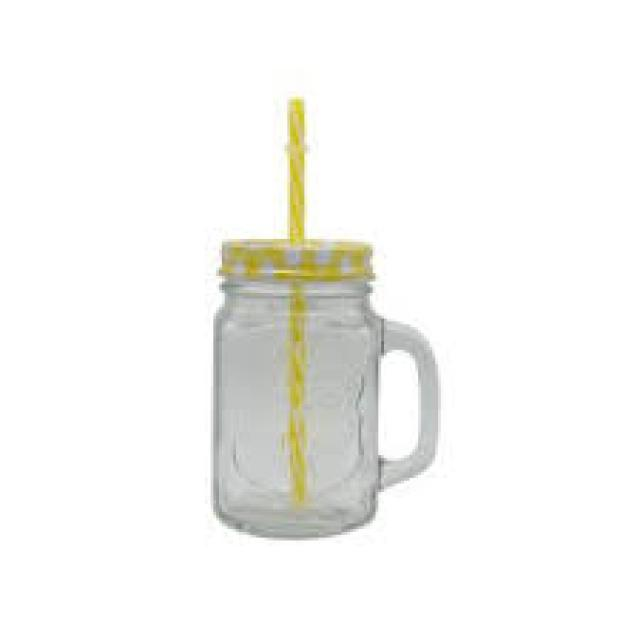glass: (211, 273, 435, 532)
metal: (216, 239, 370, 282)
